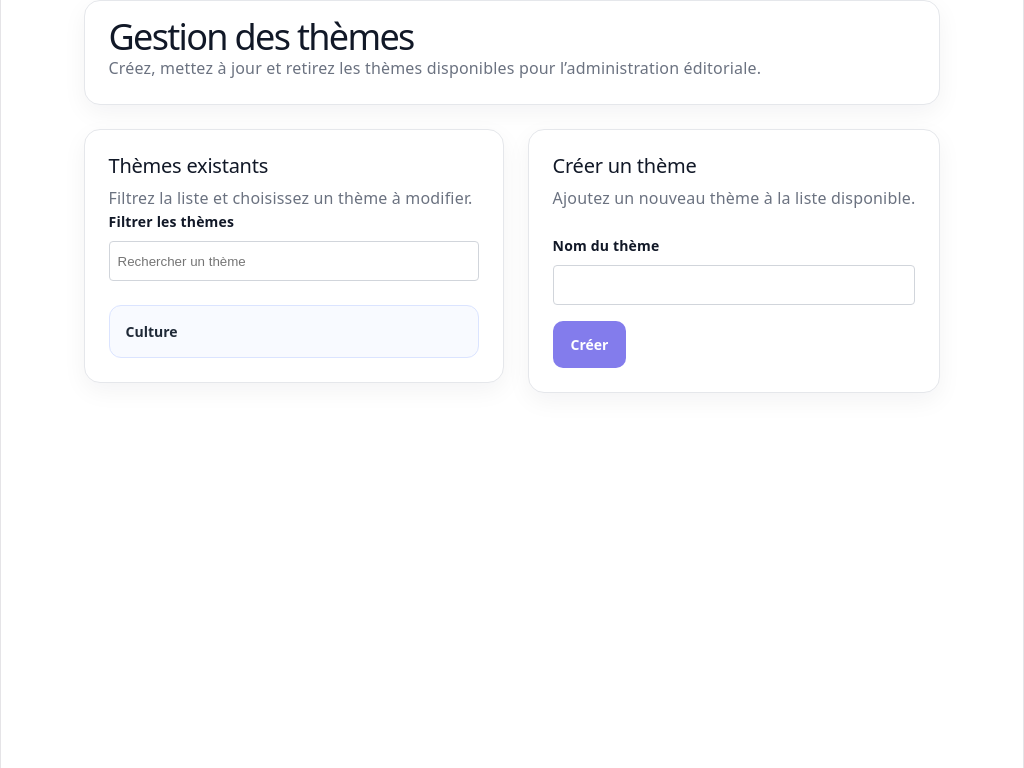
Test case: ThemeAdminPage › displays translated theme editing form when theme is selected
The width and height of the screenshot is (1024, 768).
Click the button named "Sélectionner le thème Culture". click: (152, 332)
box: x1=109 y1=305 x2=479 y2=358
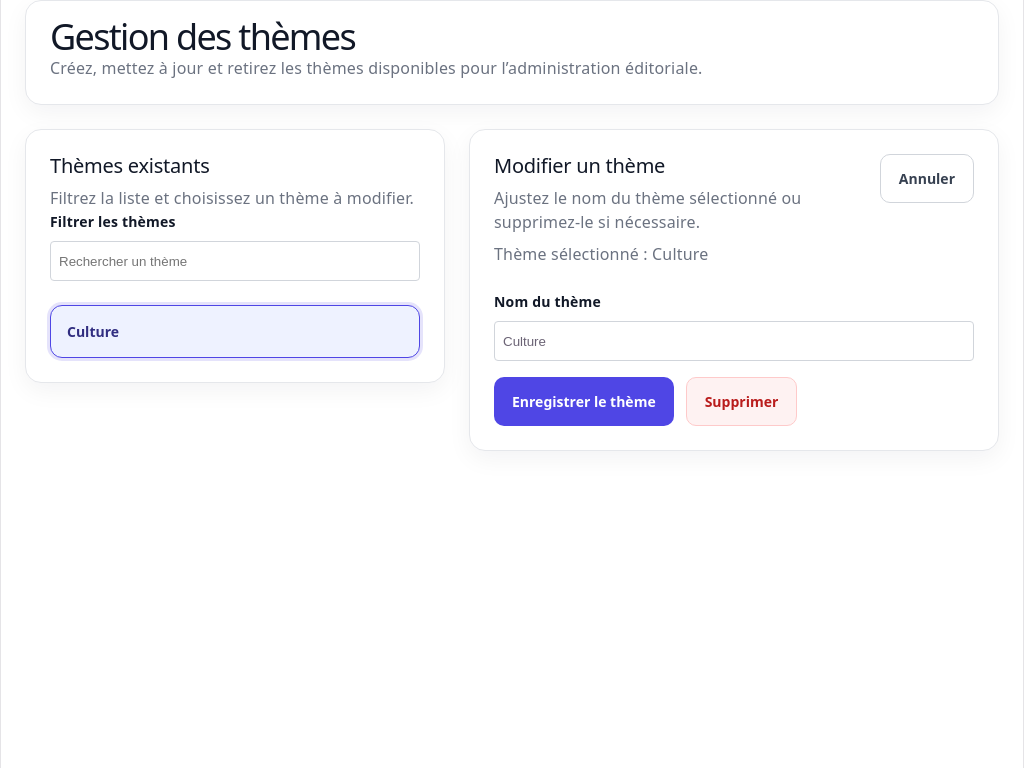
Result: the heading "Modifier un thème" is shown at x1=494 y1=152 x2=665 y2=179
Result: the text "Ajustez le nom du thème sélectionné ou supprimez-le si nécessaire." is shown at x1=494 y1=187 x2=801 y2=233
Result: the button "Annuler" is shown at x1=880 y1=154 x2=974 y2=203
